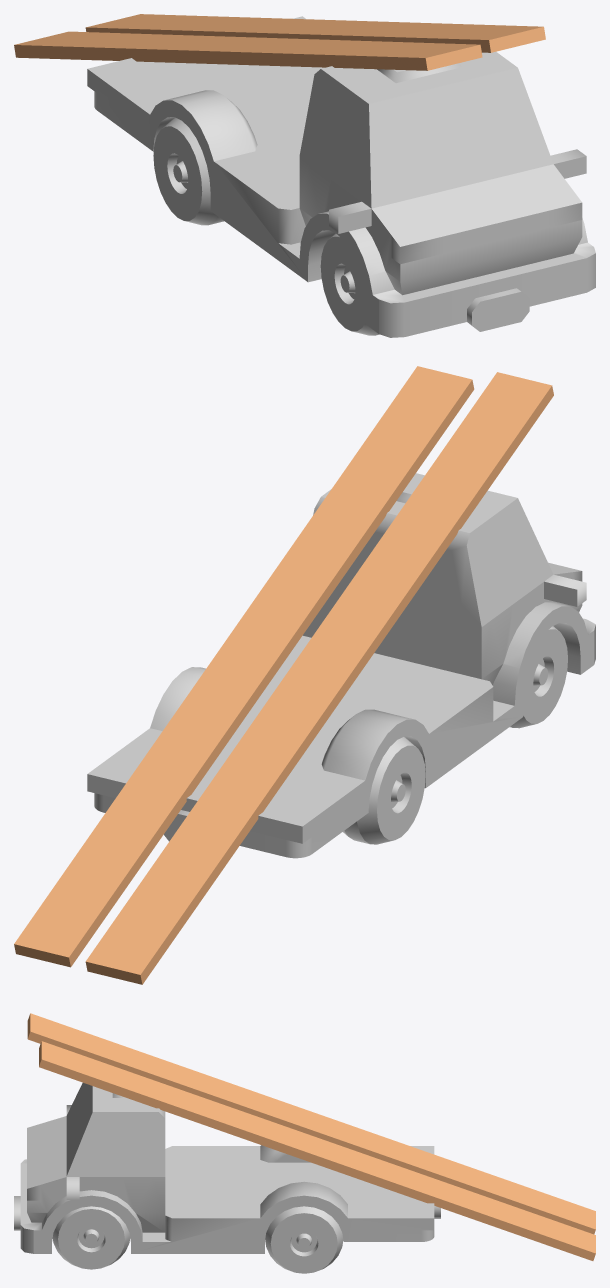
File: Planks.glb
3 views of the same model, one above another, from view 1: azimuth 30°, elevation 25°; view 2: azimuth 150°, elevation 25°; view 3: azimuth 270°, elevation 25° (orthographic). The views are drawn at different scales.
Visible parts, largest first — view 1: body, Plane, wheel-back-right, wheel-front-right; view 2: Plane, body, wheel-back-right, wheel-front-right; view 3: body, Plane, wheel-back-left, wheel-front-left.
Part boxes in pixels (x1,y1,x2,y2): body: [87, 16, 595, 337]; Plane: [14, 14, 545, 70]; wheel-back-right: [153, 117, 223, 225]; wheel-front-right: [320, 233, 379, 335]; Plane: [14, 366, 553, 984]; body: [87, 473, 595, 858]; wheel-back-right: [343, 737, 425, 844]; wheel-front-right: [509, 626, 567, 728]; body: [14, 1083, 440, 1253]; Plane: [27, 1013, 595, 1260]; wheel-back-left: [265, 1206, 343, 1273]; wheel-front-left: [52, 1206, 130, 1269].
Bounding box in the file's own units: 1.5 × 1.74 × 4.43.
